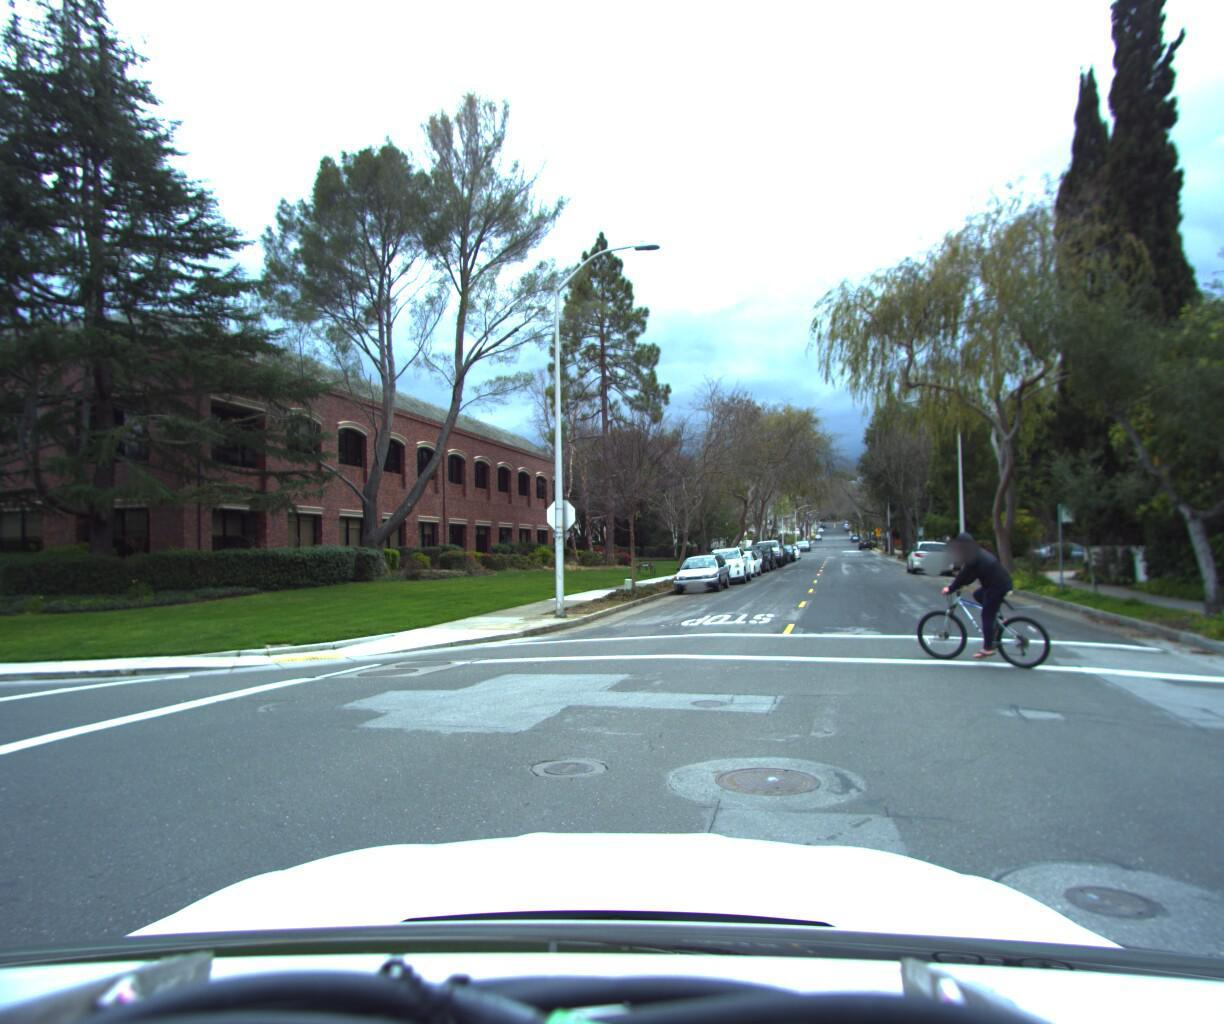bicycle: (889, 518, 1067, 675)
car: (666, 551, 727, 595), (1016, 537, 1103, 565), (695, 543, 750, 583), (900, 534, 951, 574), (745, 537, 783, 567), (728, 547, 769, 573)
